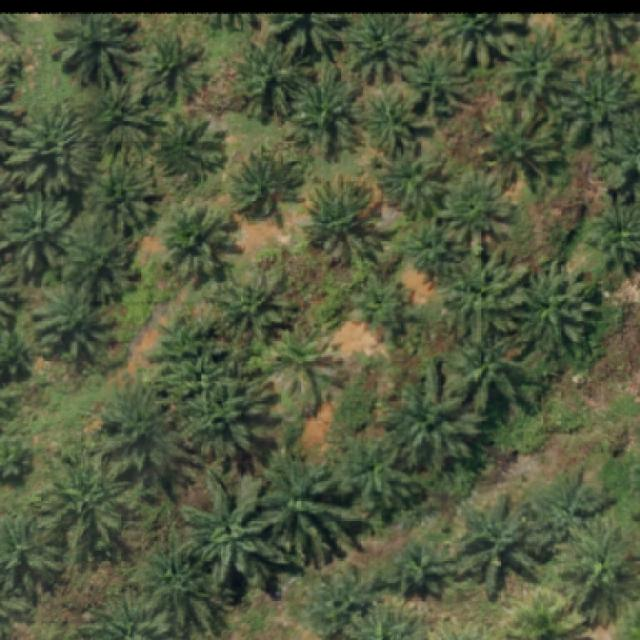Kelapa_Sawit: (175, 465, 293, 597), (251, 444, 367, 567), (378, 358, 493, 474), (549, 509, 640, 629), (124, 541, 236, 636), (143, 306, 235, 419), (99, 375, 192, 483), (453, 491, 542, 603), (438, 244, 534, 347), (510, 258, 604, 362), (36, 447, 130, 551), (301, 170, 402, 262), (6, 99, 96, 199), (184, 372, 279, 463), (281, 54, 364, 158), (333, 431, 429, 518), (265, 320, 350, 418), (228, 32, 320, 122), (442, 336, 541, 416), (496, 24, 584, 113), (480, 102, 566, 193), (56, 216, 142, 306), (32, 278, 122, 362), (204, 262, 298, 342), (88, 146, 166, 242), (564, 52, 640, 149), (443, 161, 519, 257), (81, 74, 167, 158), (162, 198, 240, 282), (359, 78, 438, 158), (400, 40, 474, 118), (373, 140, 453, 212), (153, 111, 229, 186), (230, 144, 305, 218), (141, 31, 213, 107), (311, 561, 380, 640), (351, 270, 420, 341), (396, 534, 449, 604), (403, 213, 462, 275)
